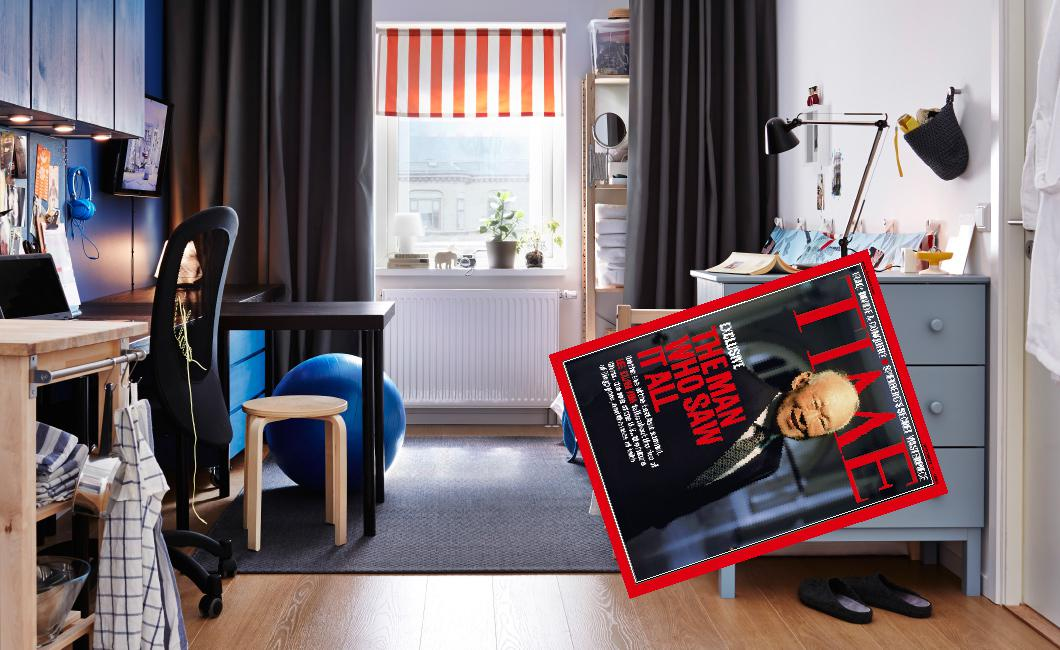times: (542, 244, 950, 597)
